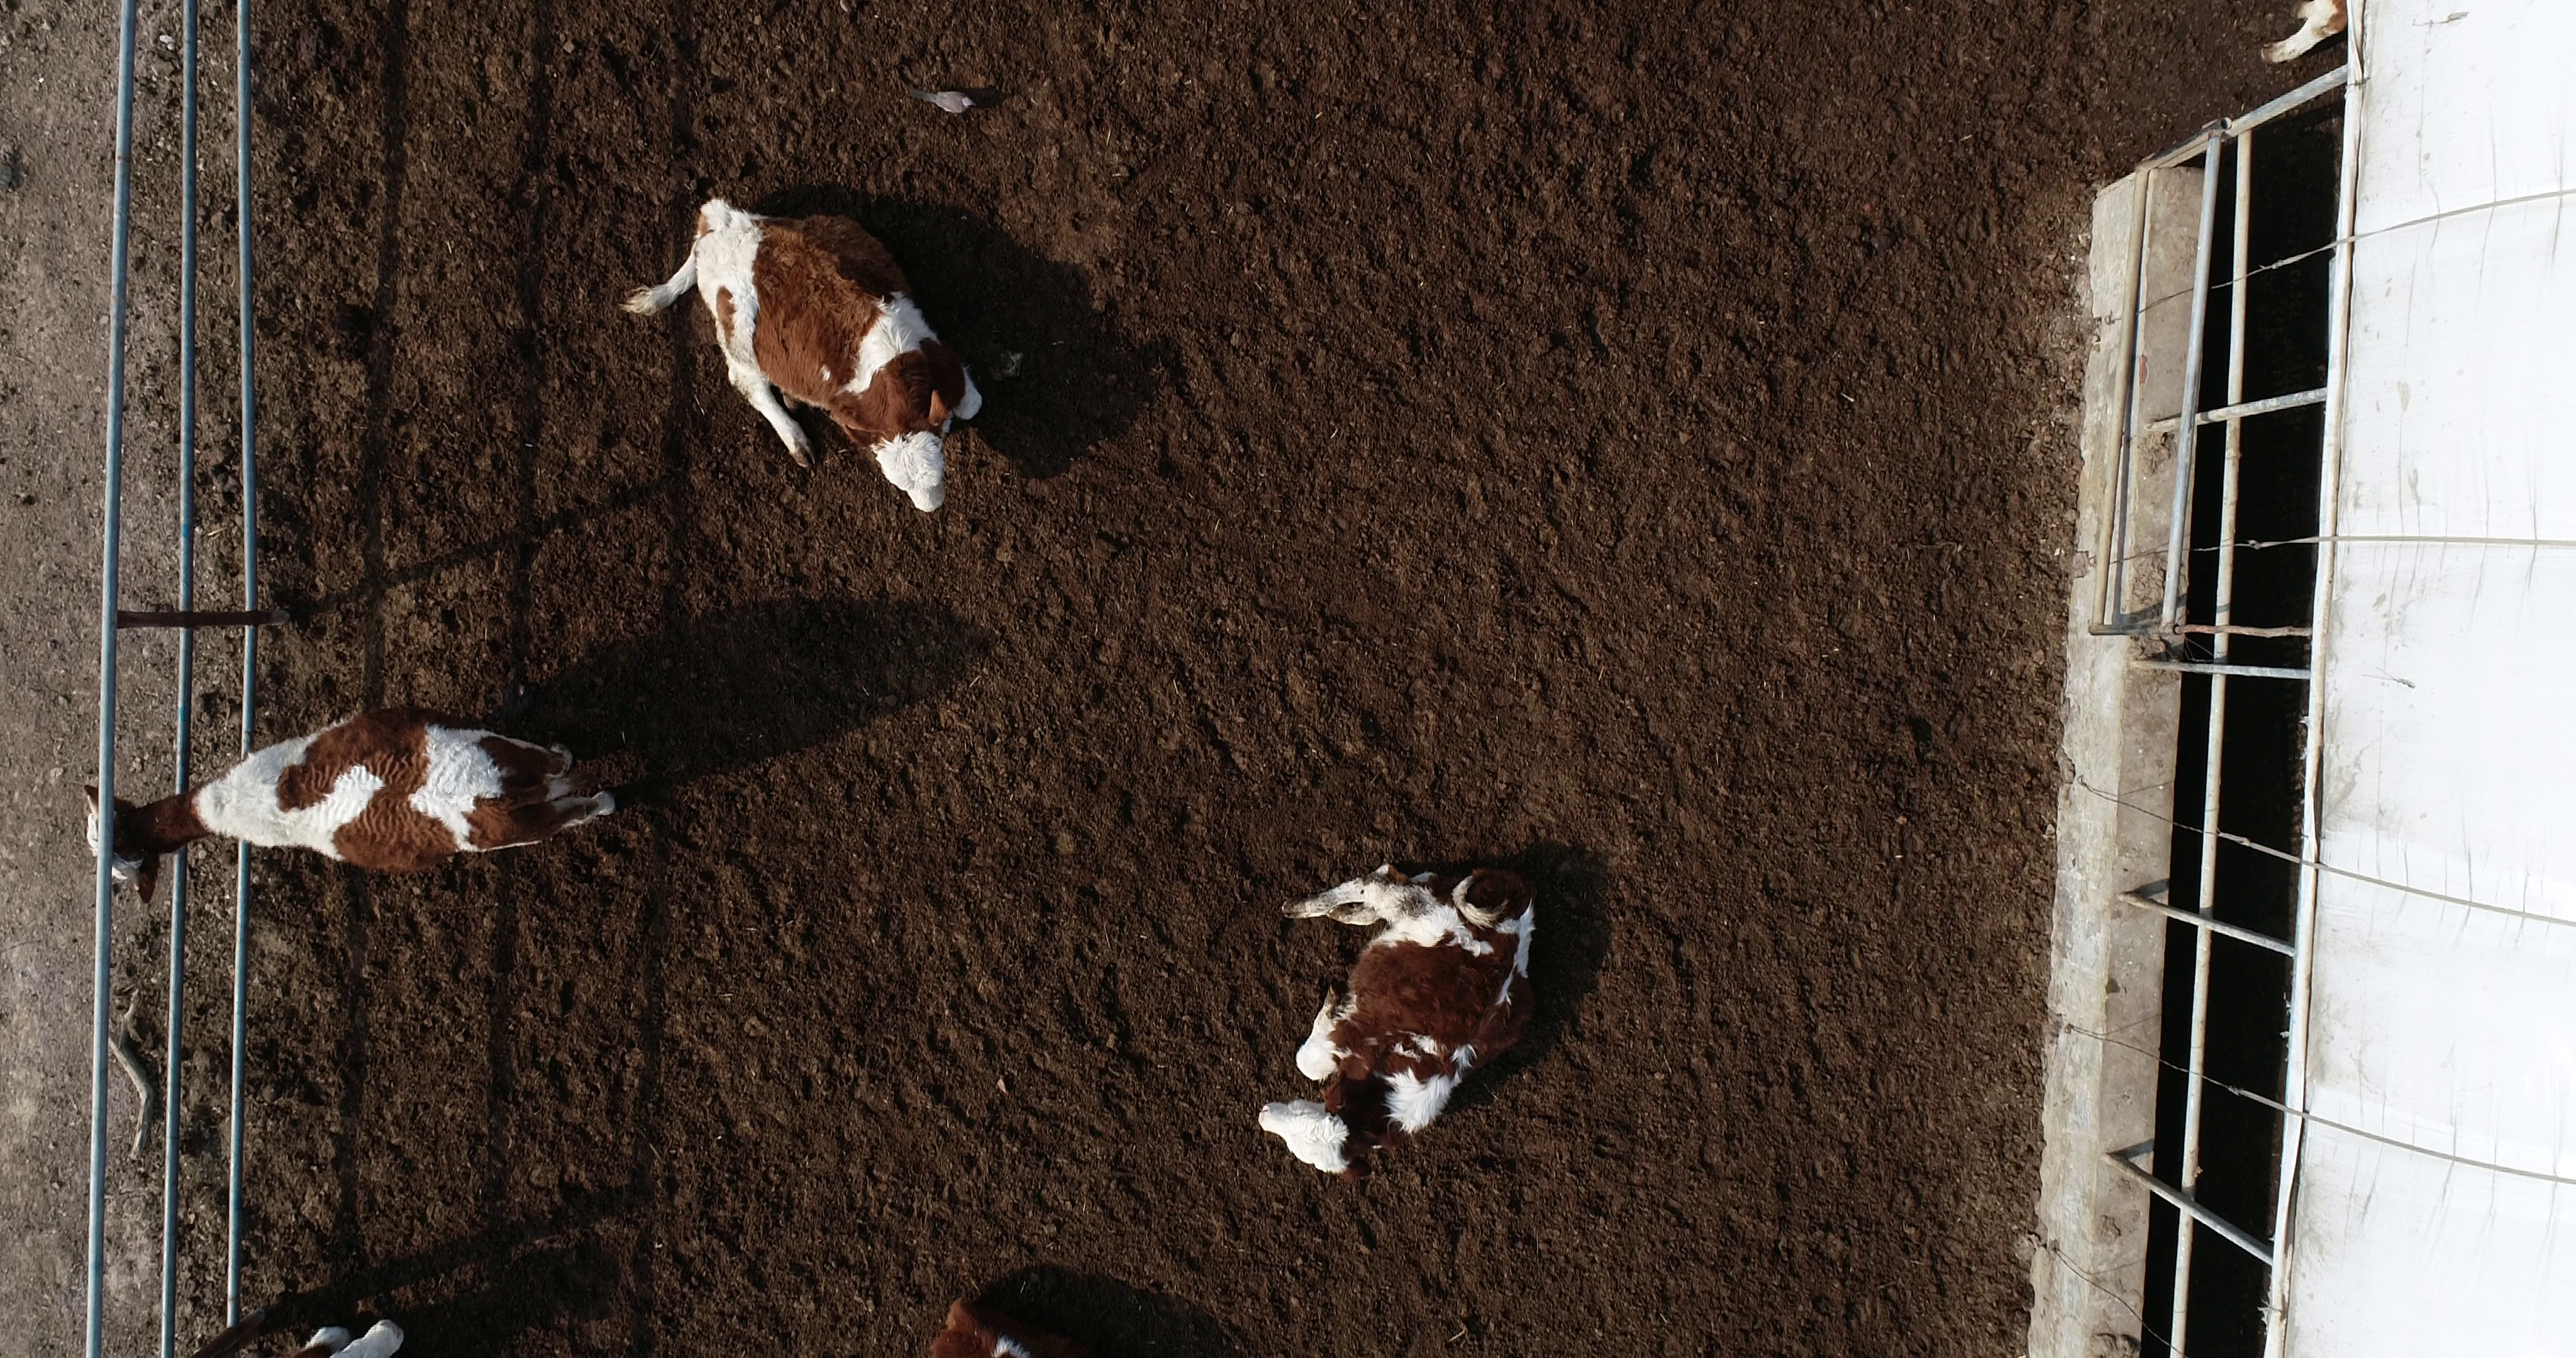cattle: (1119, 593, 1453, 942), (767, 881, 1099, 1229), (1569, 598, 2048, 831), (443, 867, 671, 1356), (1009, 463, 1222, 924), (1636, 274, 1910, 617), (842, 470, 1046, 924), (1709, 898, 1923, 1326), (719, 549, 954, 922), (1090, 187, 1297, 566), (1201, 998, 1370, 1355)
